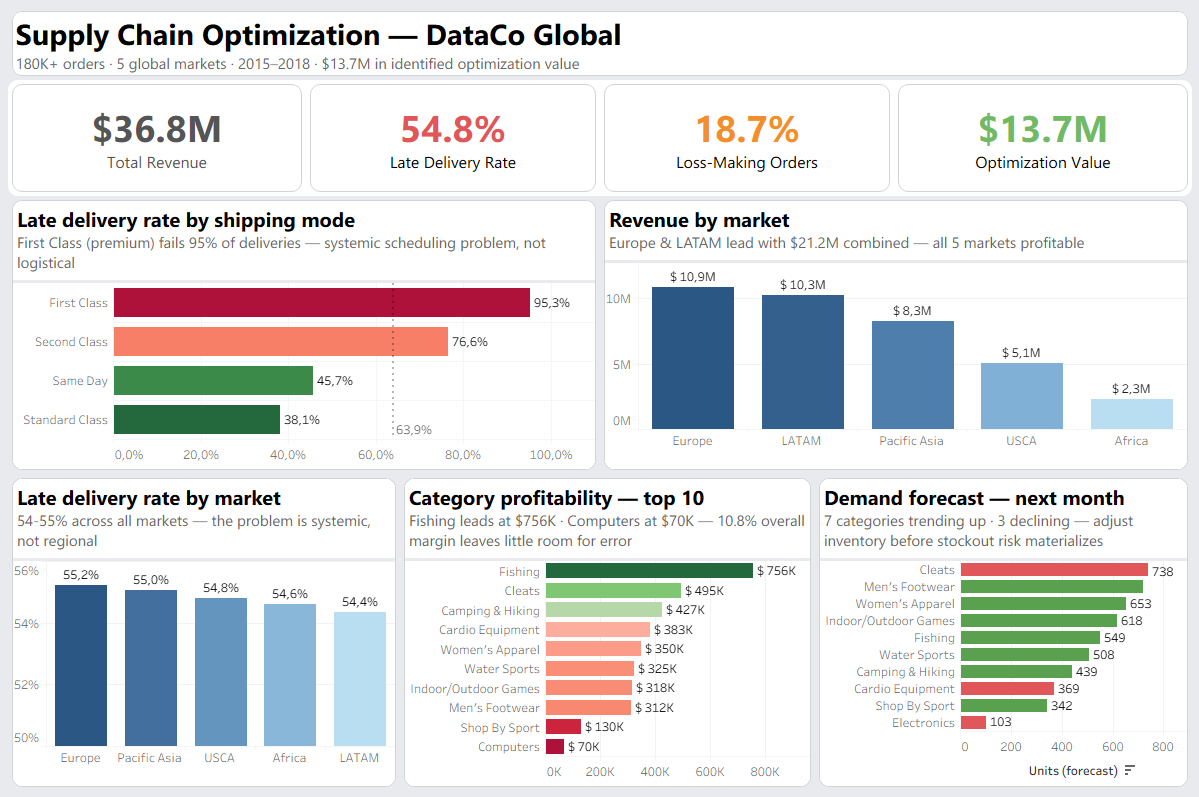

The dashboard page shown, as its layout file describes it:
{"tool":"tableau","page":{"name":"Dashboard 1","canvas":[1200,800],"ordinal":0},"visuals":[{"type":"title","box":[8,8,1184,73]},{"type":"text","box":[8,81,298,116.4]},{"type":"text","box":[306,81,294,116.4]},{"type":"text","box":[600,81,294,116.4]},{"type":"text","box":[894,81,298,116.4]},{"type":"worksheet","title":"Late by Shipping Mode","mark":"Automatic","rows":["Shipping Mode"],"cols":["is_late"],"box":[8,197.4,592,277.7]},{"type":"worksheet","title":" Revenue by Market","mark":"Automatic","rows":["Sales"],"cols":["Market"],"box":[600,197.4,592,277.7]},{"type":"worksheet","title":"Late delivery rate by market","mark":"Automatic","rows":["is_late"],"cols":["Market"],"box":[8,475.1,392,316.9]},{"type":"worksheet","title":"Category Profitability (Top & Bottom)","mark":"Automatic","rows":["Category Name"],"cols":["Order Profit Per Order"],"box":[400,475.1,415,316.9]},{"type":"worksheet","title":"Demand Forecast","mark":"Automatic","rows":["category"],"cols":["next_month_forecast"],"box":[815,475.1,377,316.9]}]}

Visuals, with their boxes in screenshot pixels (x1, y1, x2, y2), scaled from the page's 1200x800 canvas onto the 1199x797 screenshot:
title: 8:8:1191:81
text: 8:81:306:197
text: 306:81:600:197
text: 600:81:893:197
text: 893:81:1191:197
"Late by Shipping Mode" worksheet: 8:197:600:473
" Revenue by Market" worksheet: 600:197:1191:473
"Late delivery rate by market" worksheet: 8:473:400:789
"Category Profitability (Top & Bottom)" worksheet: 400:473:814:789
"Demand Forecast" worksheet: 814:473:1191:789
